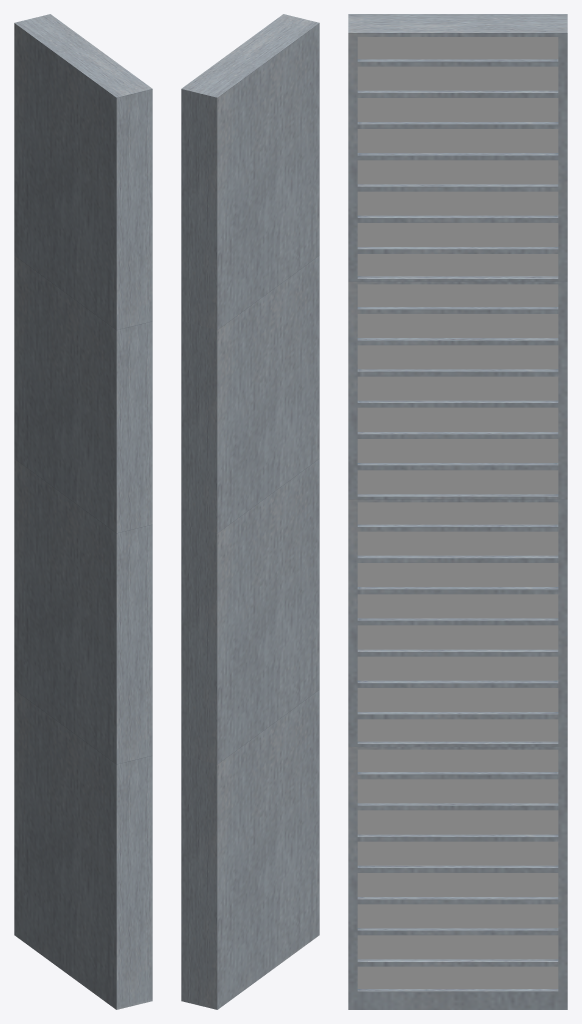
Rendered from Bookcase Tall.fbx.
The picture shows the model from 3 angles, left to right: view 1: azimuth 30°, elevation 25°; view 2: azimuth 150°, elevation 25°; view 3: azimuth 270°, elevation 25°; orthographic projection. The views are drawn at different scales.
Visible parts, largest first — view 1: Bookcase Tall.001; view 2: Bookcase Tall.001; view 3: Bookcase Tall Books, Bookcase Tall.001.
Part boxes in pixels (<box>): Bookcase Tall.001: <box>14,14,152,1009</box>; Bookcase Tall.001: <box>181,14,319,1009</box>; Bookcase Tall Books: <box>357,37,558,988</box>; Bookcase Tall.001: <box>348,14,567,1009</box>.
Size of the model in its own units: 41.19 by 989 by 201.
